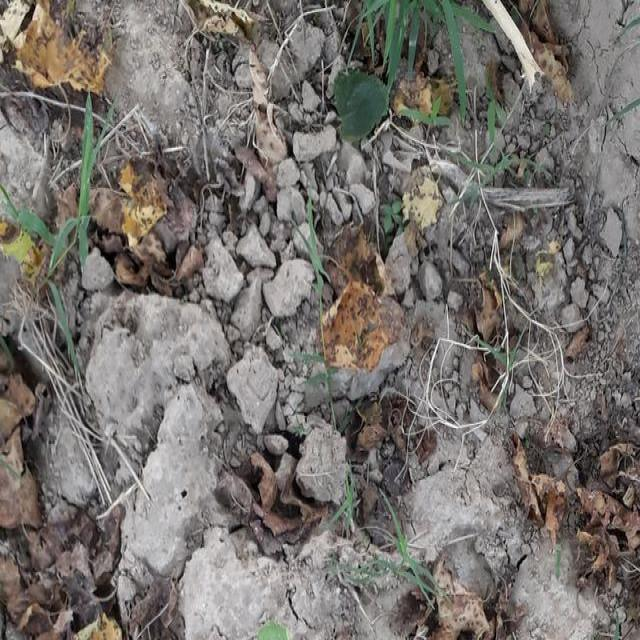weed: (1, 115, 115, 279), (346, 0, 482, 105), (380, 493, 440, 620), (281, 196, 340, 303)
